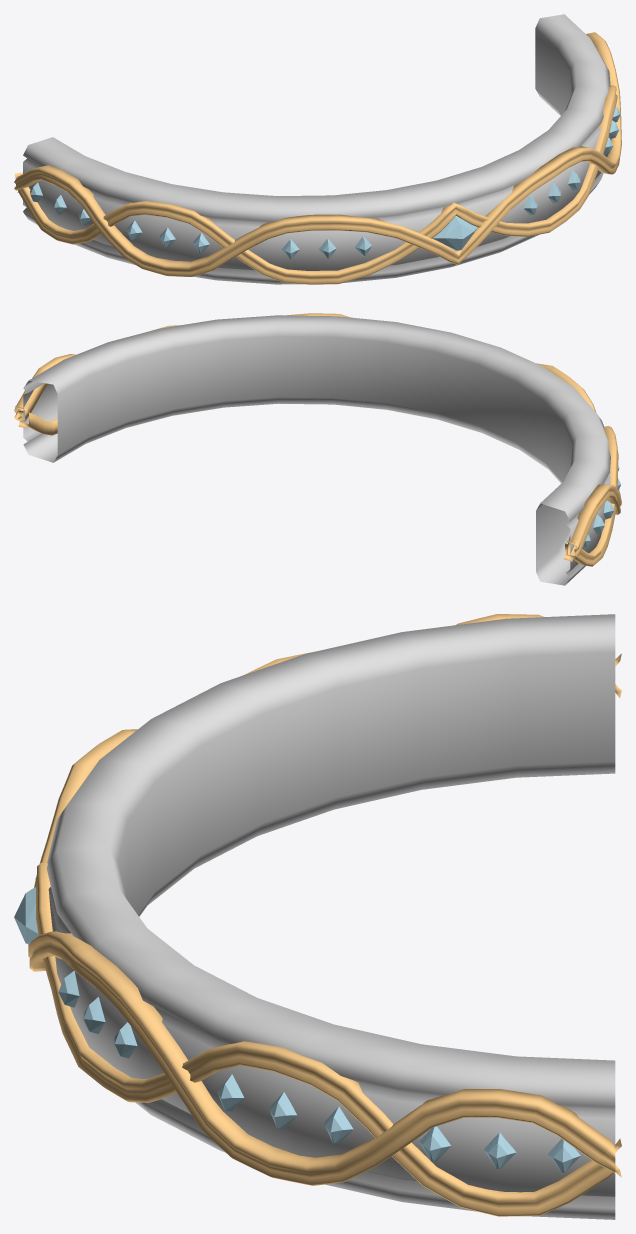
The model's file is DetailedRing2.fbx.
The picture shows the model from 3 angles, top to bottom: view 1: azimuth 30°, elevation 25°; view 2: azimuth 150°, elevation 25°; view 3: azimuth 270°, elevation 25°; orthographic projection. The views are drawn at different scales.
Parts seen in each view (by area): view 1: Half2; view 2: Half2; view 3: Half2.
Part boxes in pixels (x1,y1,x2,y2): Half2: [14, 14, 621, 284]; Half2: [14, 313, 621, 585]; Half2: [14, 614, 621, 1219].
Bounding box in the file's own units: 3.98 × 0.5268 × 2.06.
